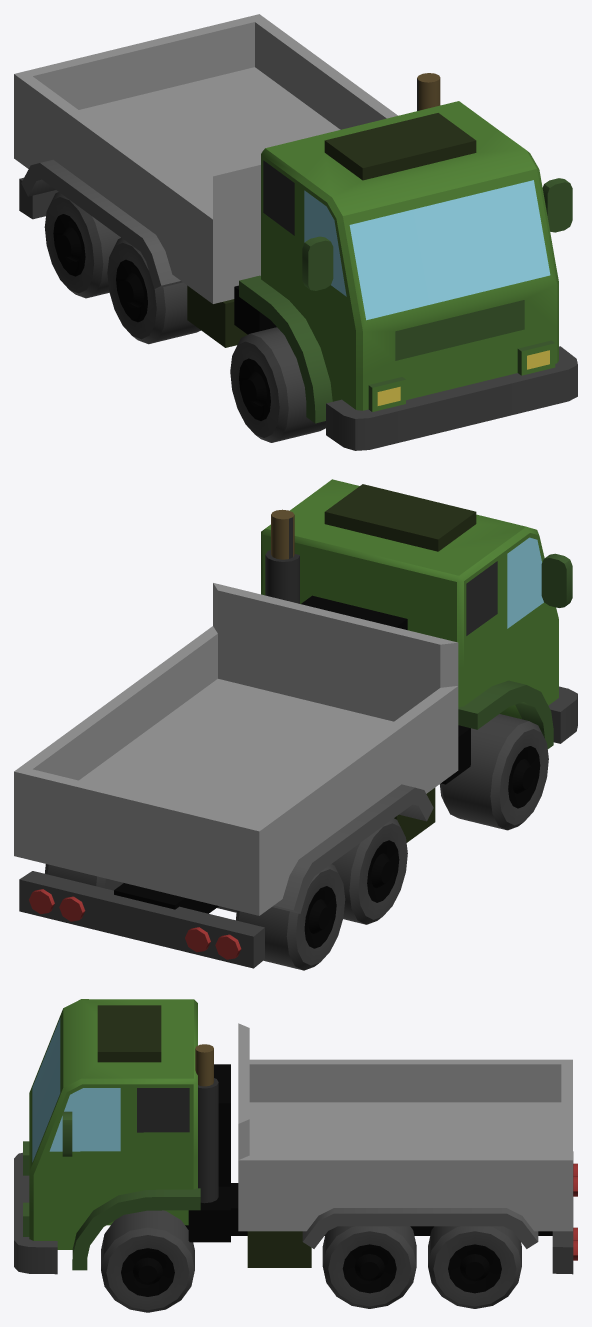
File: Truck 4.fbx
The picture shows the model from 3 angles, top to bottom: view 1: azimuth 30°, elevation 25°; view 2: azimuth 150°, elevation 25°; view 3: azimuth 270°, elevation 25°; orthographic projection. The views are drawn at different scales.
Visible parts, largest first — view 1: Cube.484, Cube.485, Cube.488, Cylinder.561, Cylinder.563, Cylinder.566, Plane.082, Cube.487, Cube.489, Cube.491, Cube.490, Cylinder.562 (+1 smaller); view 2: Cube.485, Cube.484, Cube.492, Cylinder.561, Cylinder.566, Cylinder.563, Plane.082, Cube.487, Cylinder.562, Cylinder.564, Cube.490, Cube.489 (+3 smaller); view 3: Cube.485, Cube.484, Cylinder.561, Cylinder.563, Cylinder.566, Plane.082, Cube.490, Cube.487, Cylinder.562, Cube.488, Cube.491, Cube.492 (+2 smaller).
Boxes of the visible parts, x1,y1,x2,y2 form: Cube.484: (261, 101, 558, 411); Cube.485: (14, 14, 397, 303); Cube.488: (326, 346, 577, 450); Cylinder.561: (230, 327, 325, 442); Cylinder.563: (107, 237, 200, 344); Cylinder.566: (44, 192, 120, 298); Plane.082: (21, 159, 182, 289); Cube.487: (239, 275, 332, 423); Cube.489: (302, 178, 572, 290); Cube.491: (187, 285, 247, 347); Cube.490: (234, 285, 276, 334); Cylinder.562: (417, 73, 440, 110); Cube.485: (14, 583, 458, 915); Cube.484: (261, 479, 558, 719); Cube.492: (19, 871, 264, 968); Cylinder.561: (439, 714, 548, 830); Cylinder.566: (45, 864, 345, 970); Cylinder.563: (332, 818, 407, 924); Plane.082: (272, 784, 433, 913); Cube.487: (458, 680, 553, 749); Cylinder.562: (265, 509, 299, 603); Cylinder.564: (29, 889, 241, 959); Cube.490: (301, 595, 470, 784); Cube.489: (541, 553, 572, 607); Cube.485: (238, 1023, 572, 1231); Cube.484: (23, 999, 197, 1249); Cylinder.561: (101, 1210, 194, 1312); Cylinder.563: (322, 1226, 416, 1308); Cylinder.566: (428, 1226, 521, 1308); Plane.082: (302, 1208, 538, 1248); Cube.490: (188, 1064, 230, 1242); Cube.487: (72, 1188, 200, 1270); Cylinder.562: (195, 1044, 218, 1203); Cube.488: (14, 1152, 57, 1274); Cube.491: (247, 1231, 311, 1267); Cube.492: (552, 1151, 573, 1274).
Bounding box in the file's own units: 687 × 681 × 1442.
